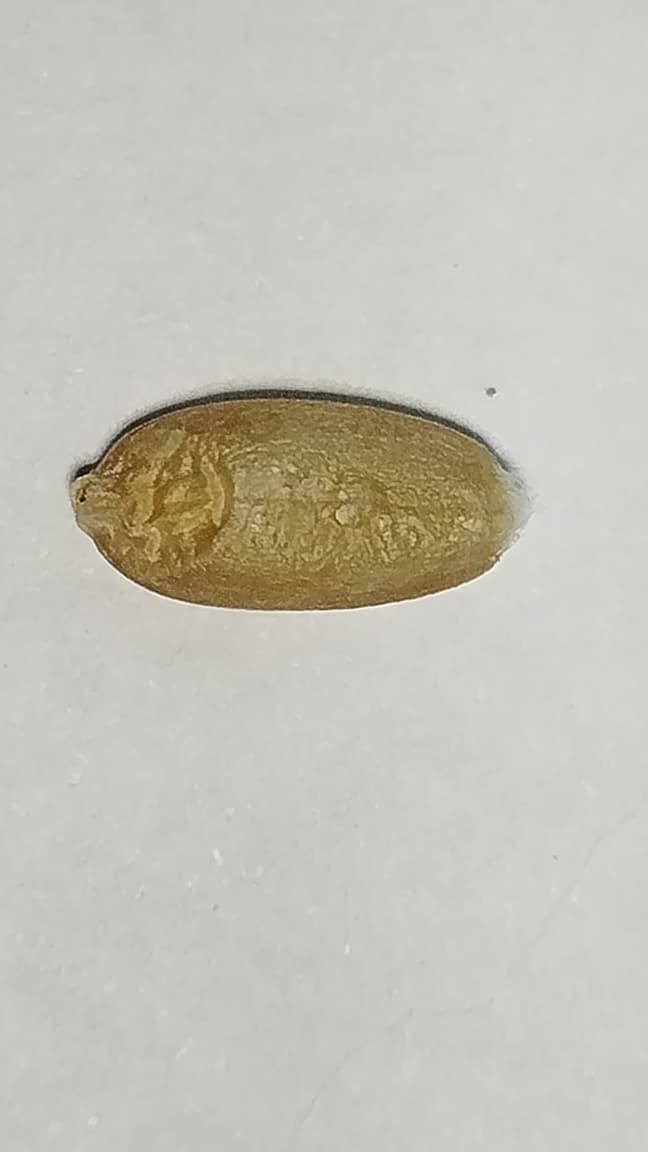healthy: (75, 393, 515, 610)
